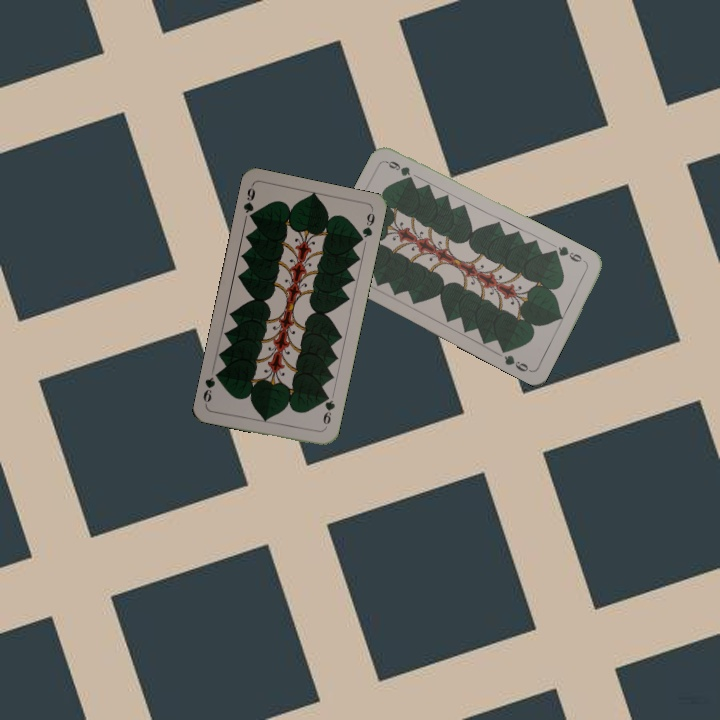G9: (550, 242, 589, 266), (319, 390, 338, 432), (239, 182, 258, 224)
